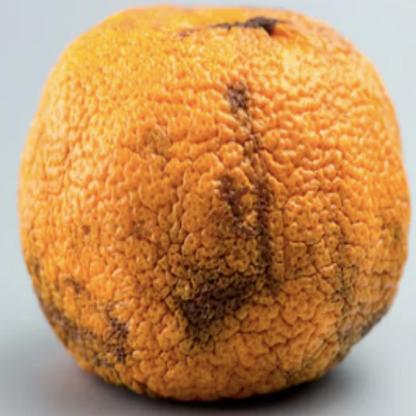rotten: (17, 4, 409, 399)
